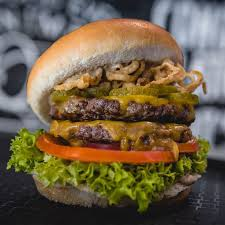hamburger: (21, 17, 209, 212)
